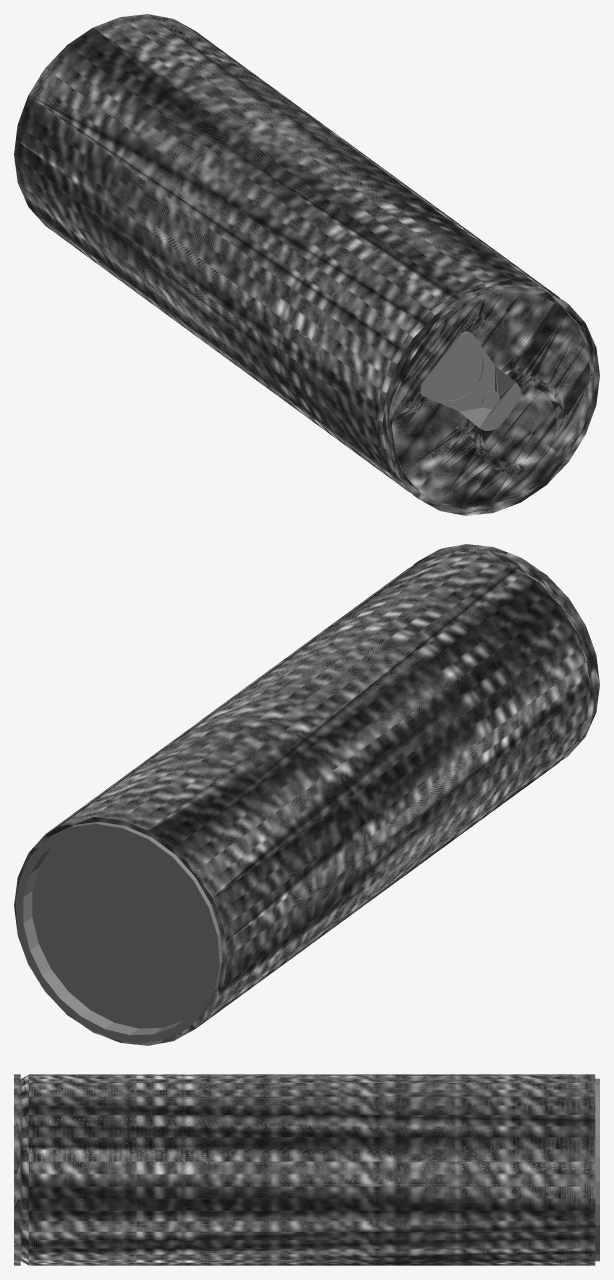
The model's file is model_align.obj.
The picture shows the model from 3 angles, top to bottom: view 1: azimuth 30°, elevation 25°; view 2: azimuth 150°, elevation 25°; view 3: azimuth 270°, elevation 25°; orthographic projection. The views are drawn at different scales.
Bounding box in the file's own units: 0.041 × 0.041 × 0.1252.
